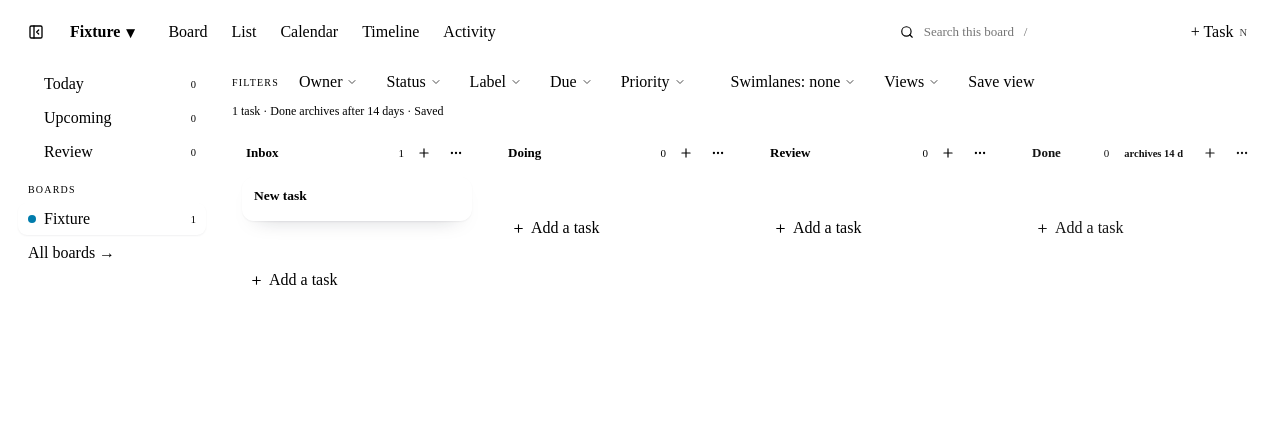
chooses undated general work for Today without editing its deadline or leaving the board as default
Click the button "Today 0" at (112, 84), box [18, 68, 206, 100]
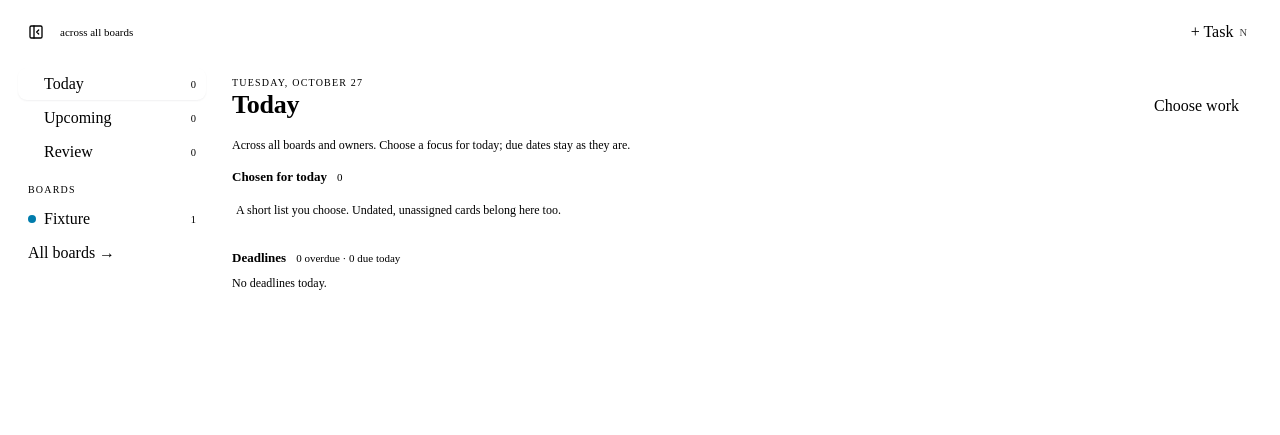
Click the button "Choose work" at (1197, 106), box [1143, 92, 1250, 120]
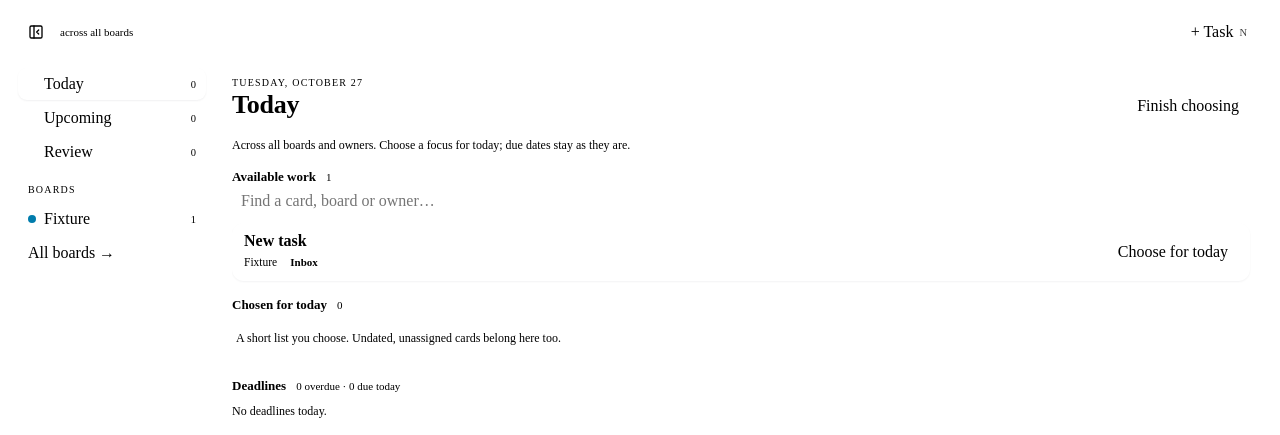
Click the button "Choose for today" at (1173, 252), box [1108, 238, 1238, 266]
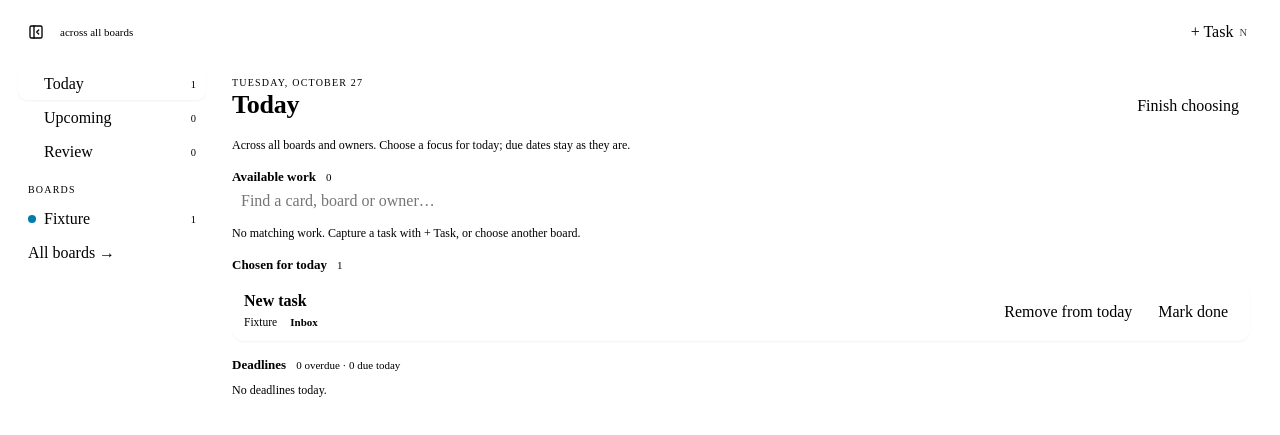
Now the text "Chosen for today" is shown, box [232, 257, 327, 273]
Now the button "Remove from today" is shown, box [994, 298, 1142, 326]
